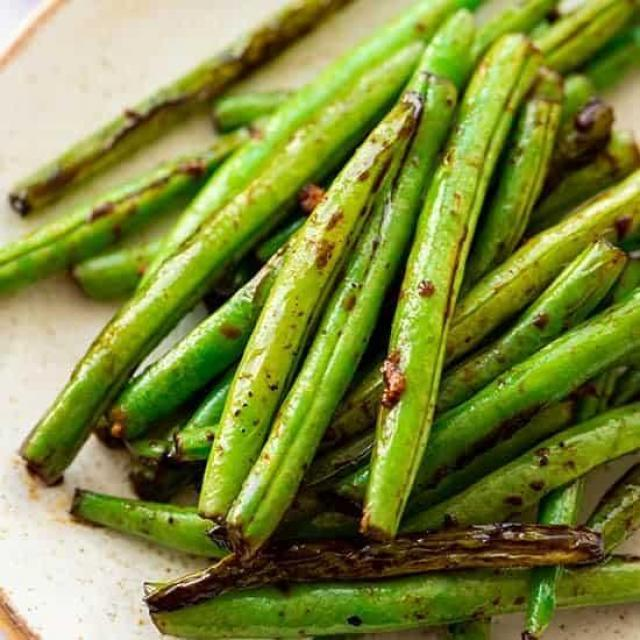Beans: (2, 1, 640, 635)
